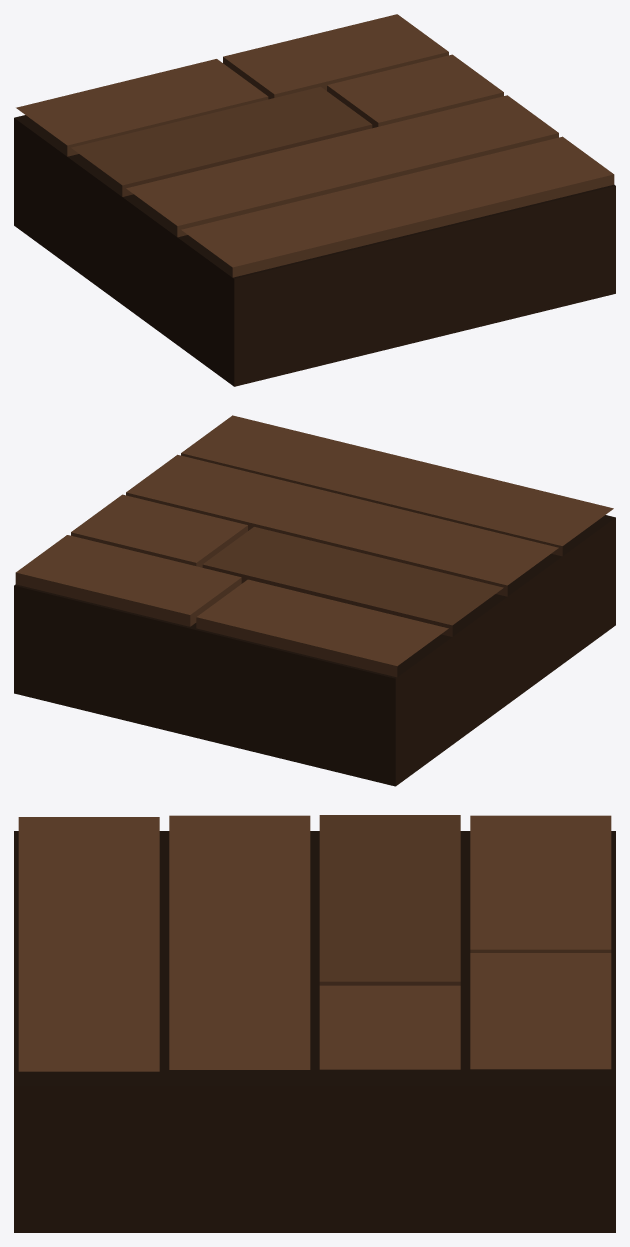
Rendered from tile_wood_floor_2.glb.
3 views of the same model, one above another, from view 1: azimuth 30°, elevation 25°; view 2: azimuth 150°, elevation 25°; view 3: azimuth 270°, elevation 25° (orthographic). The views are drawn at different scales.
Parts seen in each view (by area): view 1: tile_wood_floor_2; view 2: tile_wood_floor_2; view 3: tile_wood_floor_2.
Part boxes in pixels (box(x1,y1,x2,y2)): tile_wood_floor_2: box(14, 14, 615, 386); tile_wood_floor_2: box(14, 415, 615, 786); tile_wood_floor_2: box(14, 815, 615, 1232).
Bounding box in the file's own units: 1 × 0.2996 × 1.
